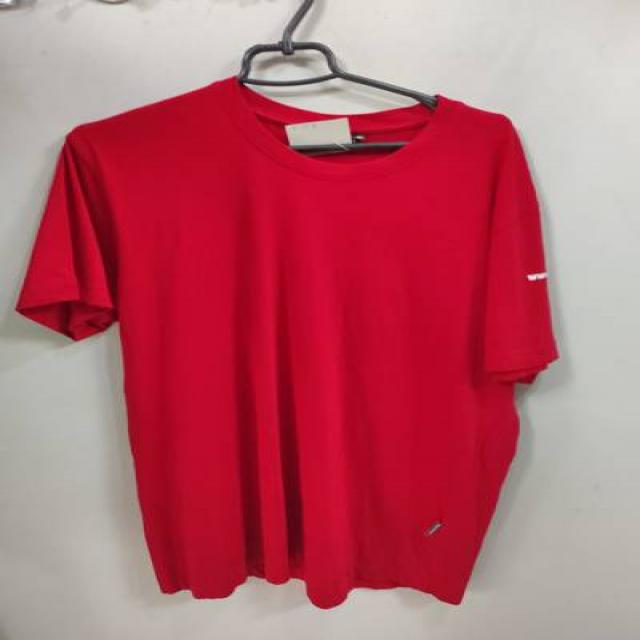Clothes -Biodegradable-: (11, 80, 559, 608)
